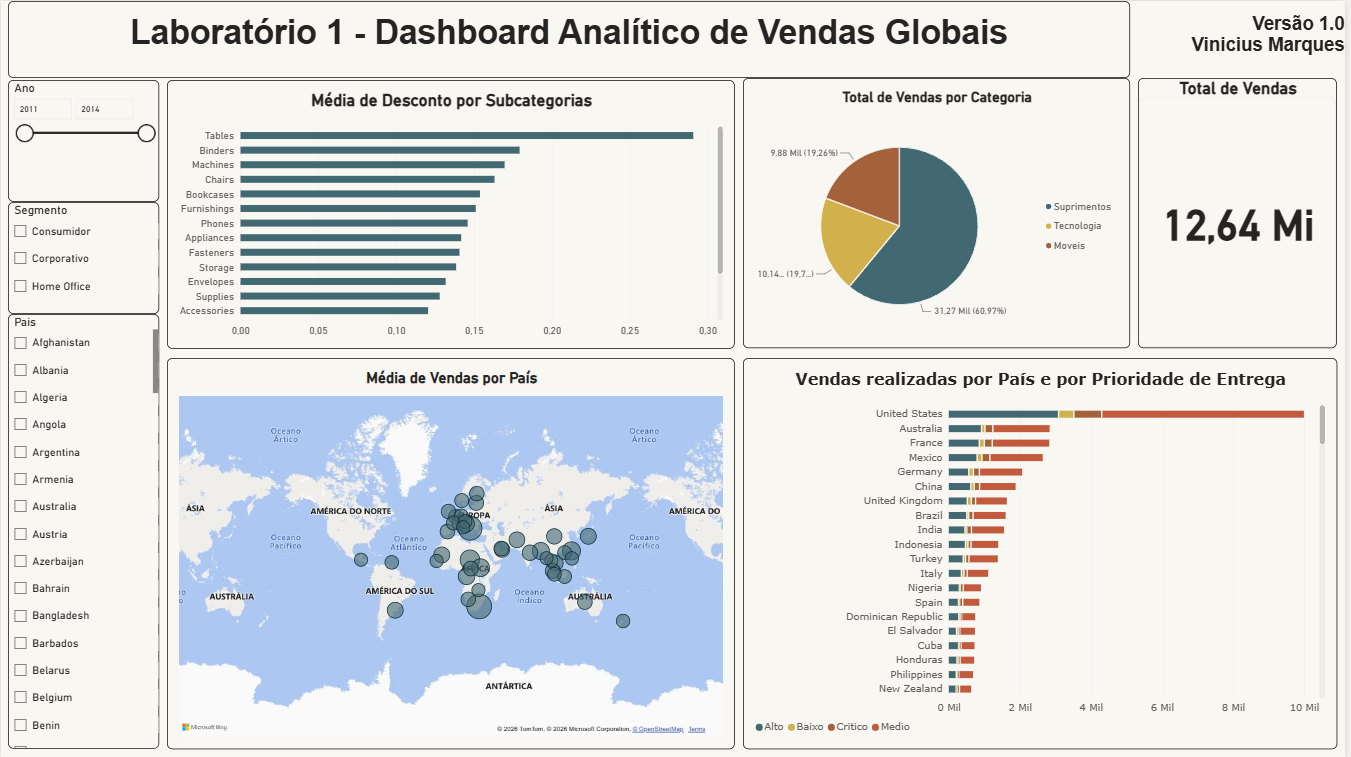

The dashboard page shown, as its layout file describes it:
{"tool":"powerbi","page":{"name":"Página 1","canvas":[1920,1080],"ordinal":0},"visuals":[{"type":"cardVisual","title":"Total de Vendas","fields":{"Data":["Sum(dataset.Total_Vendas)"]},"box":[1624.3,110,284.3,385.7],"z":0},{"type":"pieChart","title":"Total de Vendas por Categoria","fields":{"Category":["dataset.Categoria"],"Y":["CountNonNull(dataset.ID_Pedido)"]},"box":[1060,110,552.9,385.7],"z":1000},{"type":"barChart","title":"Vendas realizadas por País e por Prioridade de Entrega","fields":{"Category":["dataset.Pais"],"Series":["dataset.Prioridade"],"Y":["CountNonNull(dataset.ID_Pedido)"]},"box":[1060,510,848.6,558.6],"z":2000},{"type":"barChart","title":"Média de Desconto por Subcategorias","fields":{"Category":["dataset.SubCategoria"],"Y":["Avg(dataset.Desconto)"]},"box":[237.1,112.9,811.4,384.3],"z":3000},{"type":"map","title":"Média de Vendas por País","fields":{"Category":["dataset.Pais"],"Size":["Avg(dataset.Total_Vendas)"]},"box":[237.1,510,811.4,558.6],"z":4000},{"type":"slicer","fields":{"Values":["dataset.Pais"]},"box":[10,447.1,215.7,621.4],"z":5000},{"type":"slicer","fields":{"Values":["dataset.Segmento"]},"box":[10,287.1,215.7,160],"z":6000},{"type":"slicer","fields":{"Values":["dataset.Data_Pedido.Variation.Hierarquia de datas.Ano"]},"box":[10,112.9,215.7,174.3],"z":7000},{"type":"textbox","box":[10,0,1602.9,110],"z":8000},{"type":"textbox","box":[1613.3,0,306.7,111.1],"z":9000}]}

Visuals, with their boxes in screenshot pixels (x1, y1, x2, y2), scaled from the page's 1920x1080 canvas onto the 1351x757 screenshot:
"Total de Vendas" cardVisual: 1143/77/1343/347
"Total de Vendas por Categoria" pieChart: 746/77/1135/347
"Vendas realizadas por País e por Prioridade de Entrega" barChart: 746/357/1343/749
"Média de Desconto por Subcategorias" barChart: 167/79/738/349
"Média de Vendas por País" map: 167/357/738/749
slicer - dataset.Pais: 7/313/159/749
slicer - dataset.Segmento: 7/201/159/313
slicer - dataset.Data_Pedido.Variation.Hierarquia de datas.Ano: 7/79/159/201
textbox: 7/0/1135/77
textbox: 1135/0/1350/78
